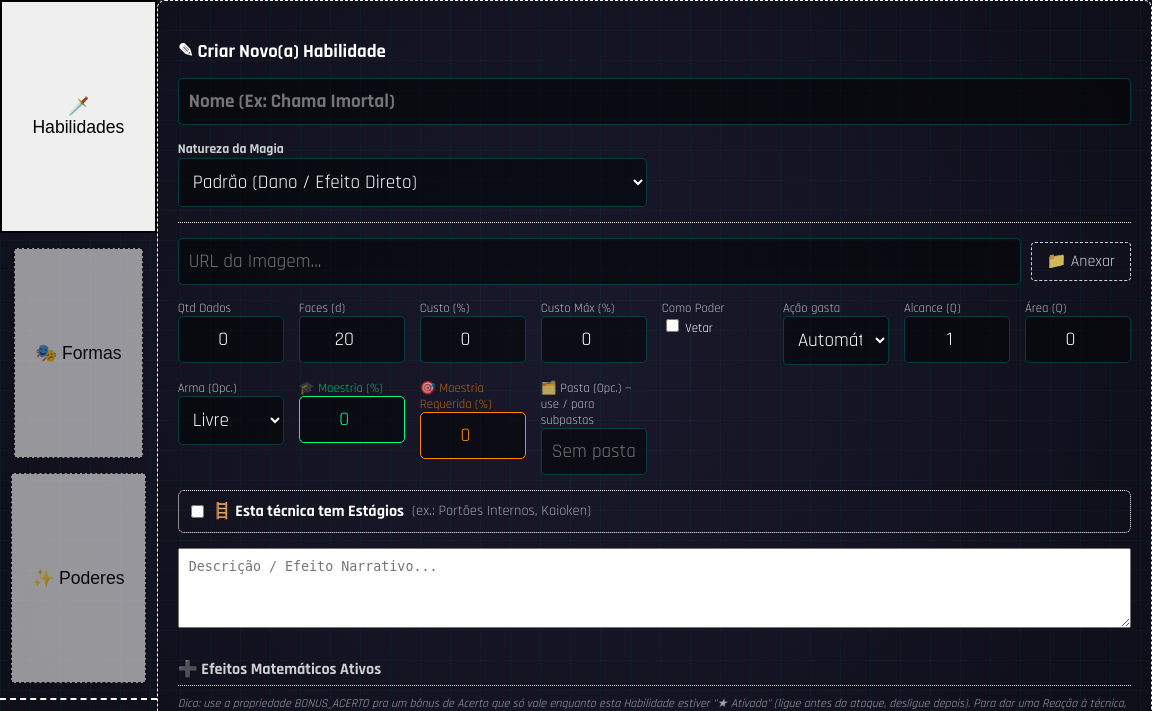
Test: PoderesFormEditor (UI) — bloco de Estágios › marcar o checkbox revela nome, último estágio, crescimento, fadiga e nomes
Click the checkbox labelled "🪜 Esta técnica tem Estágios (ex.: Portões Internos, Kaioken)" at x=197, y=511, box [191,505,204,518]
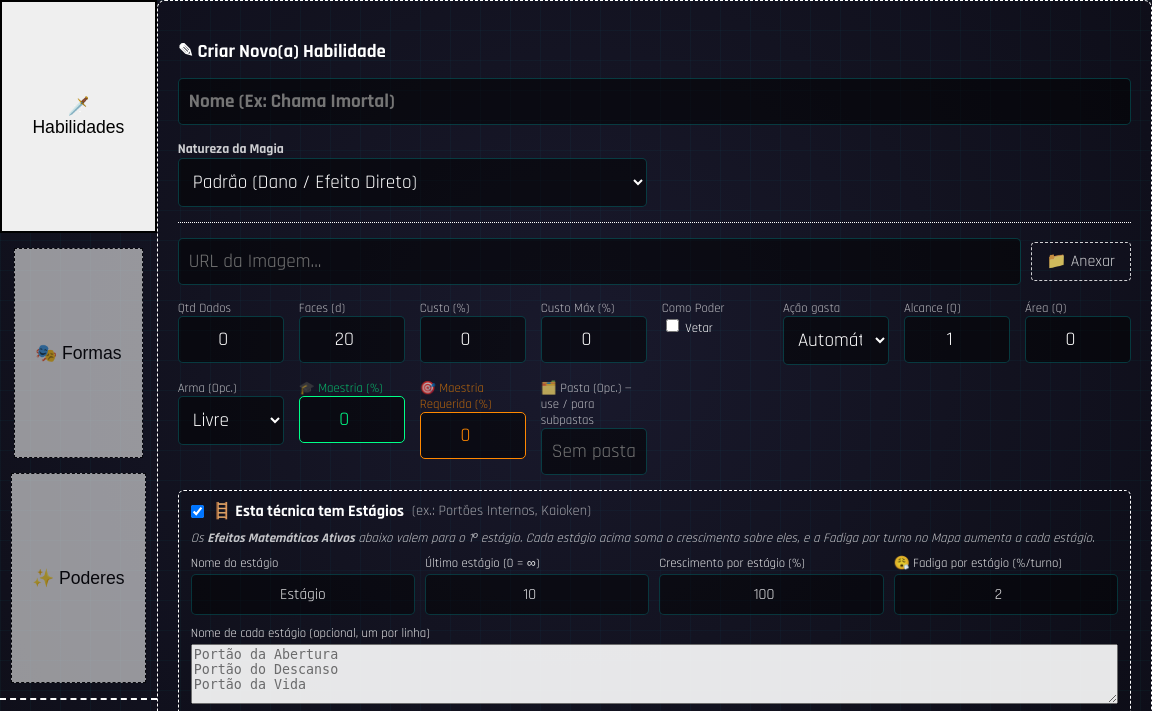
expect the text "Nome do estágio" is shown: met, box [191,555,278,571]
expect the text "Último estágio (0 = ∞)" is shown: met, box [425,555,540,571]
expect the text "Crescimento por estágio (%)" is shown: met, box [659,555,805,571]
